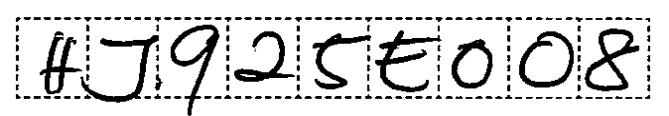0: (516, 27, 578, 91), (448, 36, 496, 90)
2: (231, 27, 296, 89)
5: (308, 30, 364, 92)
8: (584, 23, 644, 93)
9: (165, 22, 221, 95)
E: (373, 30, 435, 93)
H: (34, 29, 82, 94)
J: (90, 32, 155, 99)
